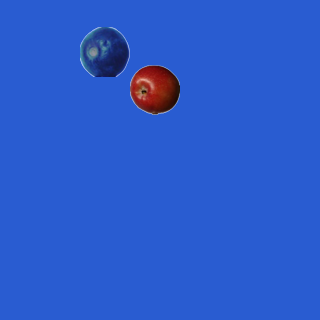Apple Braeburn: (129, 64, 179, 114)
Huckleberry: (79, 26, 129, 76)
